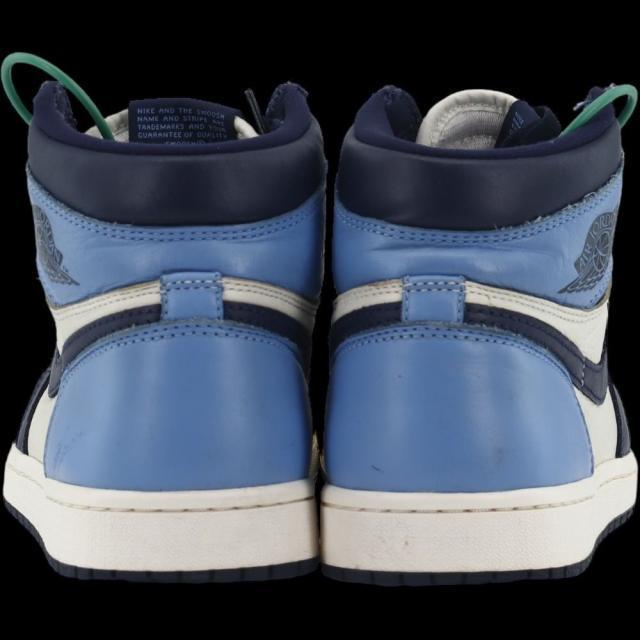nike original jordan 1: (0, 75, 325, 592), (314, 76, 638, 586)
